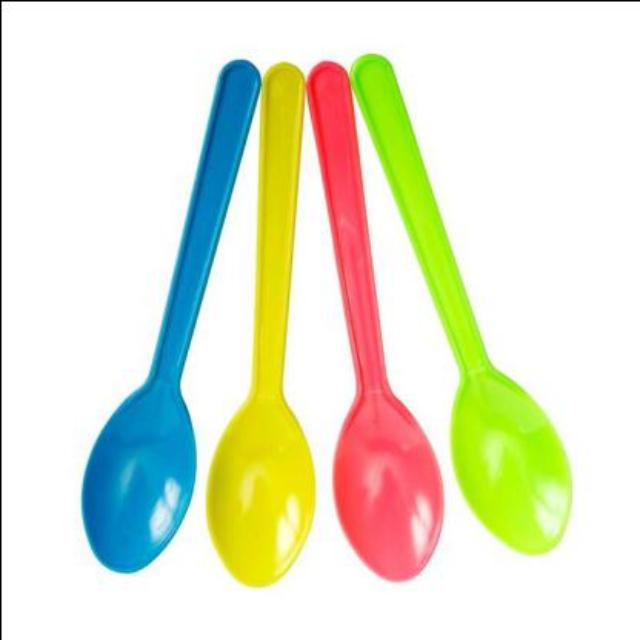plastic_cultery: (84, 51, 586, 586)
